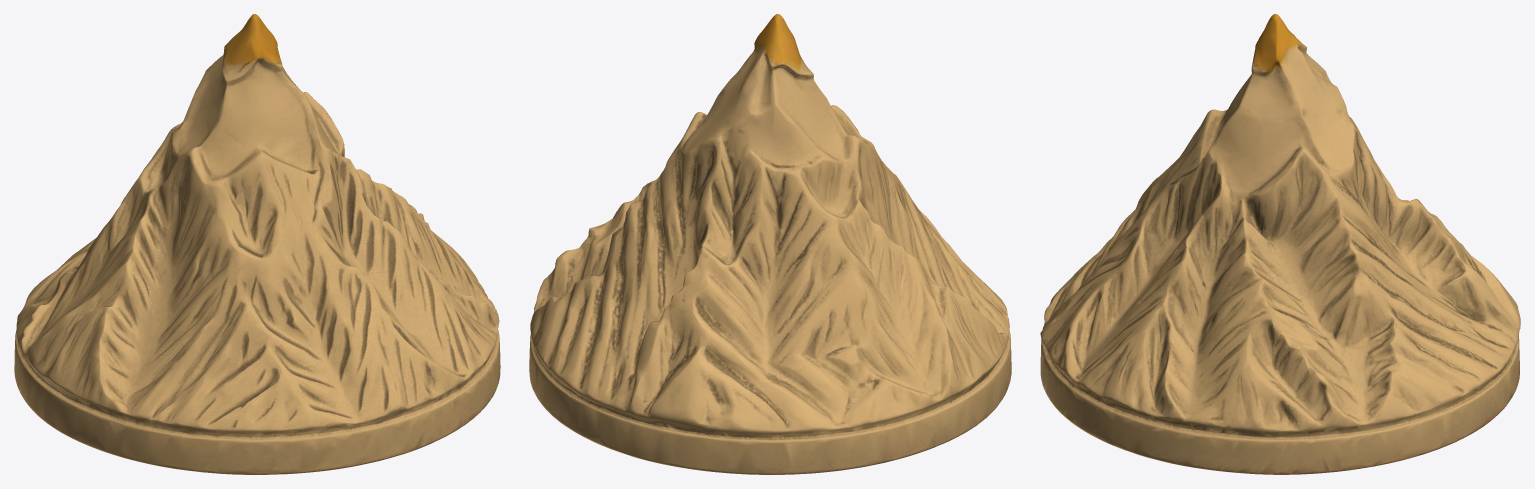
The model's file is mount_everest.glb.
3 renders of one model, left to right at view 1: azimuth 30°, elevation 25°; view 2: azimuth 150°, elevation 25°; view 3: azimuth 270°, elevation 25°, orthographic.
Visible parts, largest first — view 1: Mesh_0; view 2: Mesh_0; view 3: Mesh_0.
Boxes of the visible parts, left/top/right/bottom form: Mesh_0: left=14, top=14, right=500, bottom=474; Mesh_0: left=529, top=14, right=1011, bottom=474; Mesh_0: left=1040, top=14, right=1520, bottom=474.
Size of the model in its own units: 1.9 by 1.57 by 1.9.
1 material, 1 textured.
